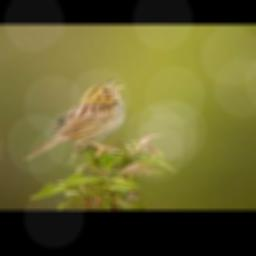Sparrow: (21, 77, 125, 161)
